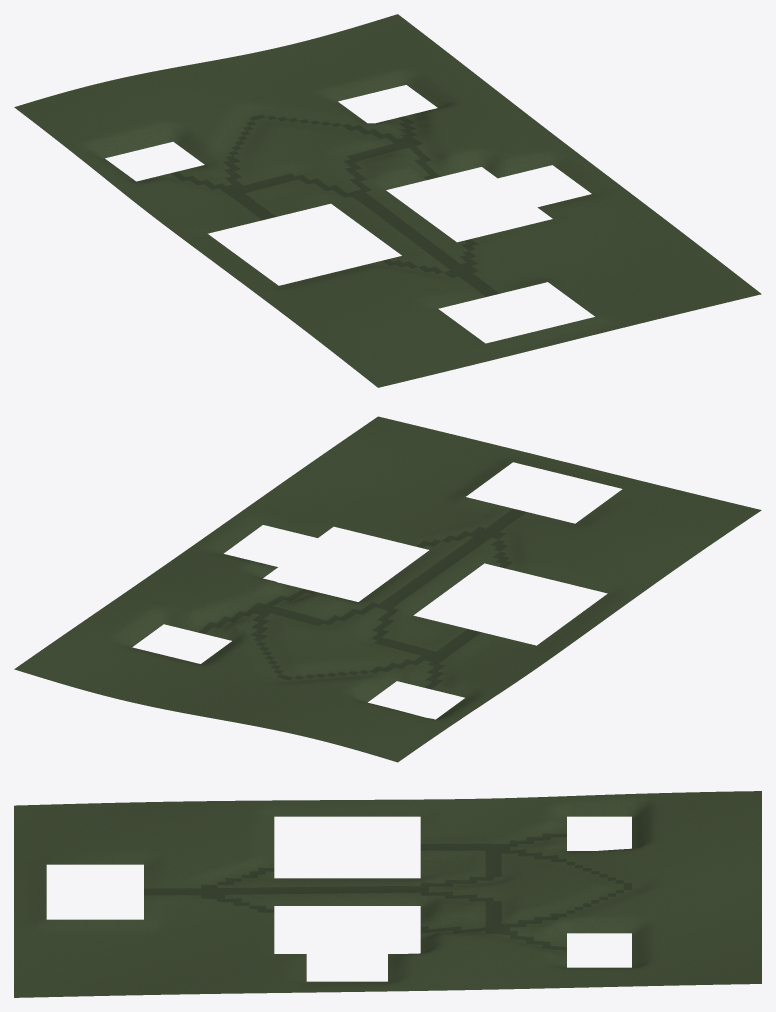
Rendered from level_site_wld_07_terrain.glb.
3 views of the same model, one above another, from view 1: azimuth 30°, elevation 25°; view 2: azimuth 150°, elevation 25°; view 3: azimuth 270°, elevation 25° (orthographic). The views are drawn at different scales.
Parts seen in each view (by area): view 1: level_site_wld_07_terrain; view 2: level_site_wld_07_terrain; view 3: level_site_wld_07_terrain.
Boxes of the visible parts, box(x1,y1,x2,y2) form: level_site_wld_07_terrain: box(14, 14, 761, 387); level_site_wld_07_terrain: box(14, 416, 761, 762); level_site_wld_07_terrain: box(14, 791, 761, 997).
Size of the model in its own units: 56 by 2.68 by 92.
2 materials, 2 textured.
